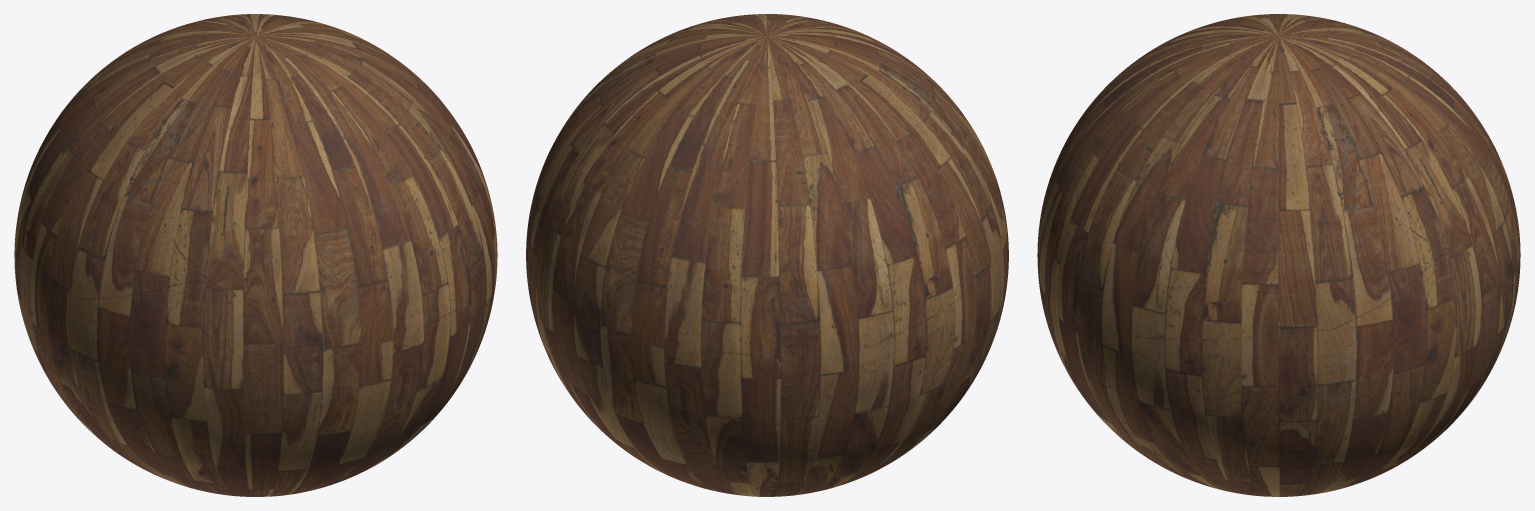
The model's file is plank_flooring_1k.gltf.
3 renders of one model, left to right at view 1: azimuth 30°, elevation 25°; view 2: azimuth 150°, elevation 25°; view 3: azimuth 270°, elevation 25°, orthographic.
Parts seen in each view (by area): view 1: sphere_gltf; view 2: sphere_gltf; view 3: sphere_gltf.
Part boxes in pixels (bbox=[...]): sphere_gltf: bbox=[14, 14, 497, 496]; sphere_gltf: bbox=[526, 14, 1008, 496]; sphere_gltf: bbox=[1037, 14, 1520, 496].
Bounding box in the file's own units: 1.34 × 1.34 × 1.34.
Materials: 1 (1 with a texture image).
